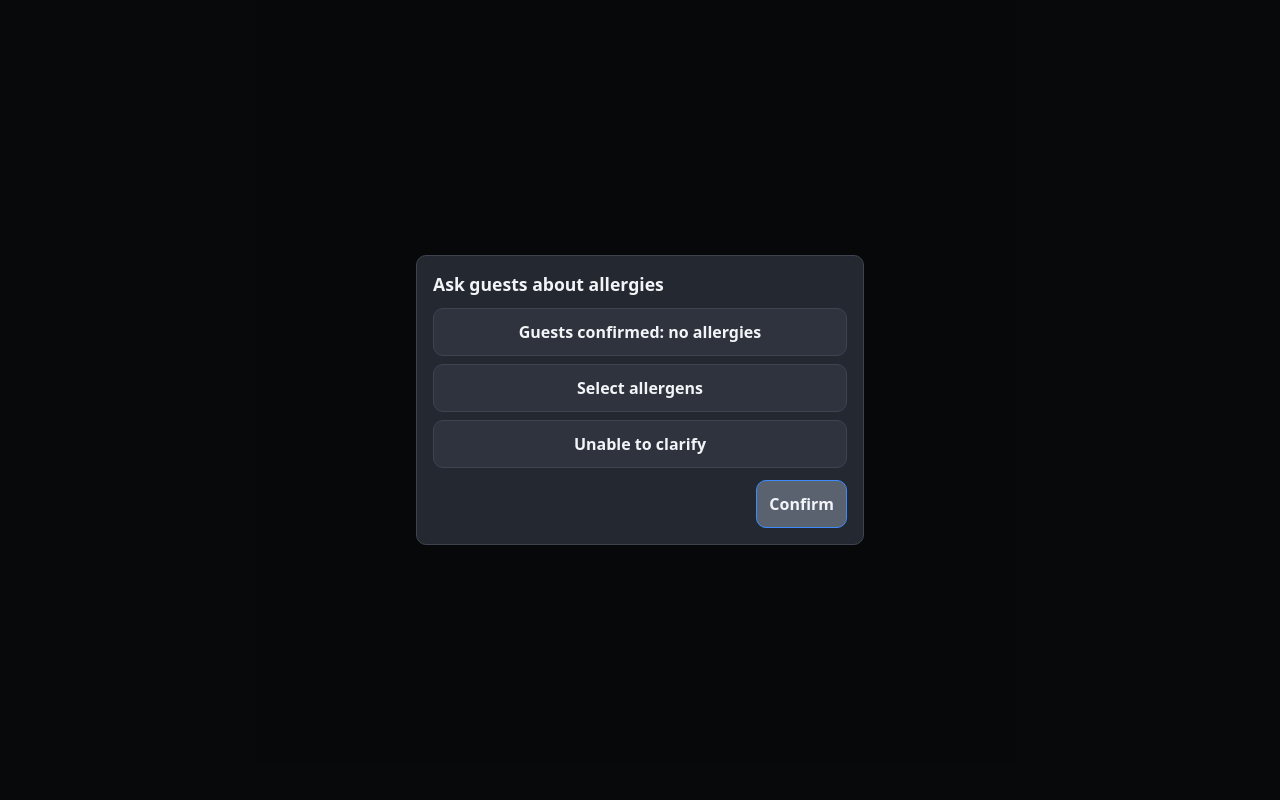
Scenario: AllergenPanel › UNABLE_TO_CLARIFY explains that status stays unknown
This screenshot has width=1280, height=800.
Click the radio button "Unable to clarify" at x=640, y=444, box [433,420,847,468]
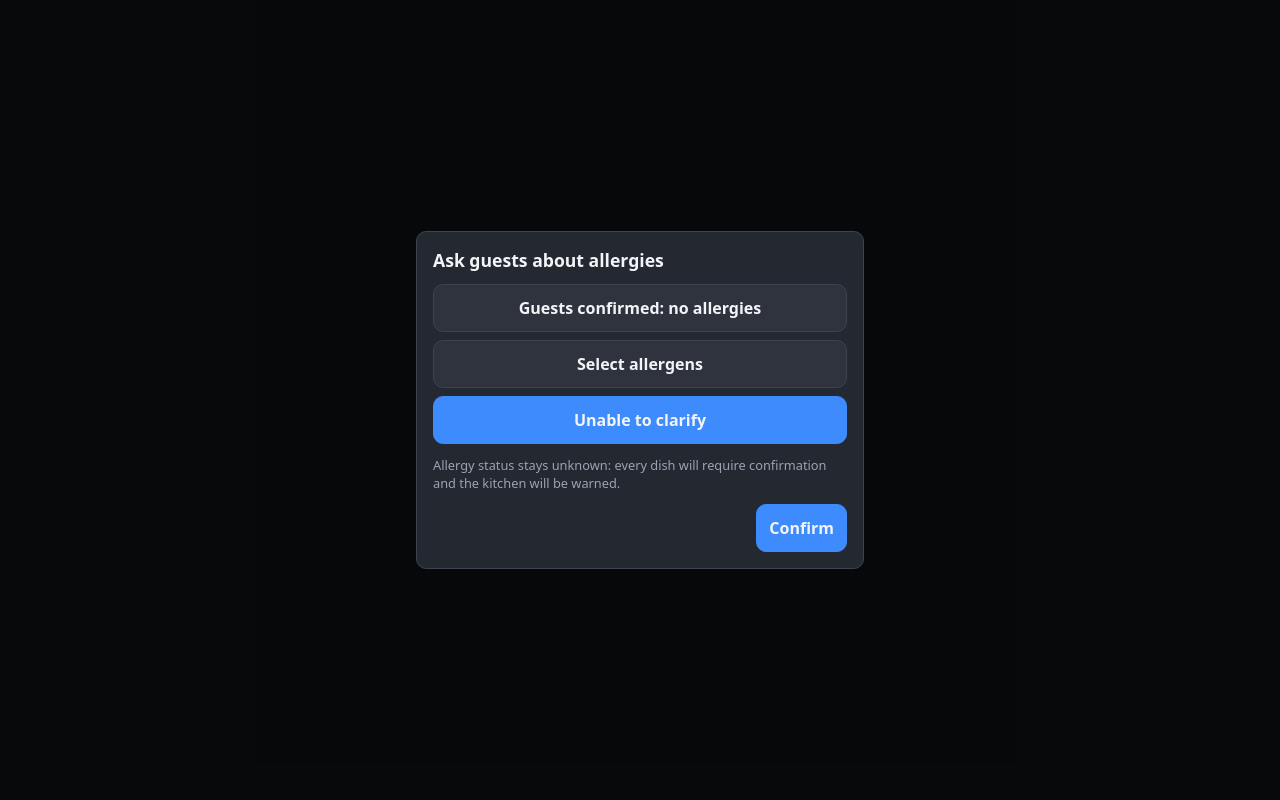
Result: the text "stays unknown" is shown at [433,456,826,492]
